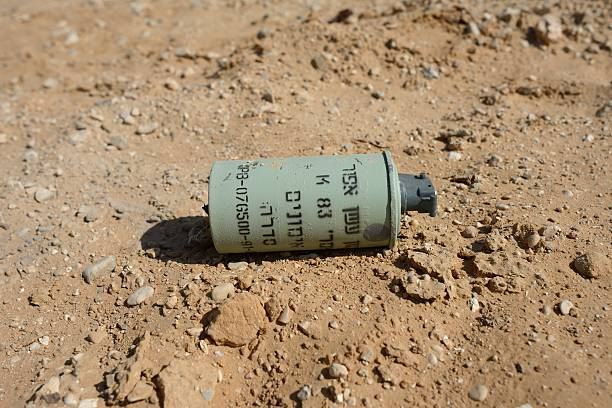e1: (198, 152, 433, 251)
